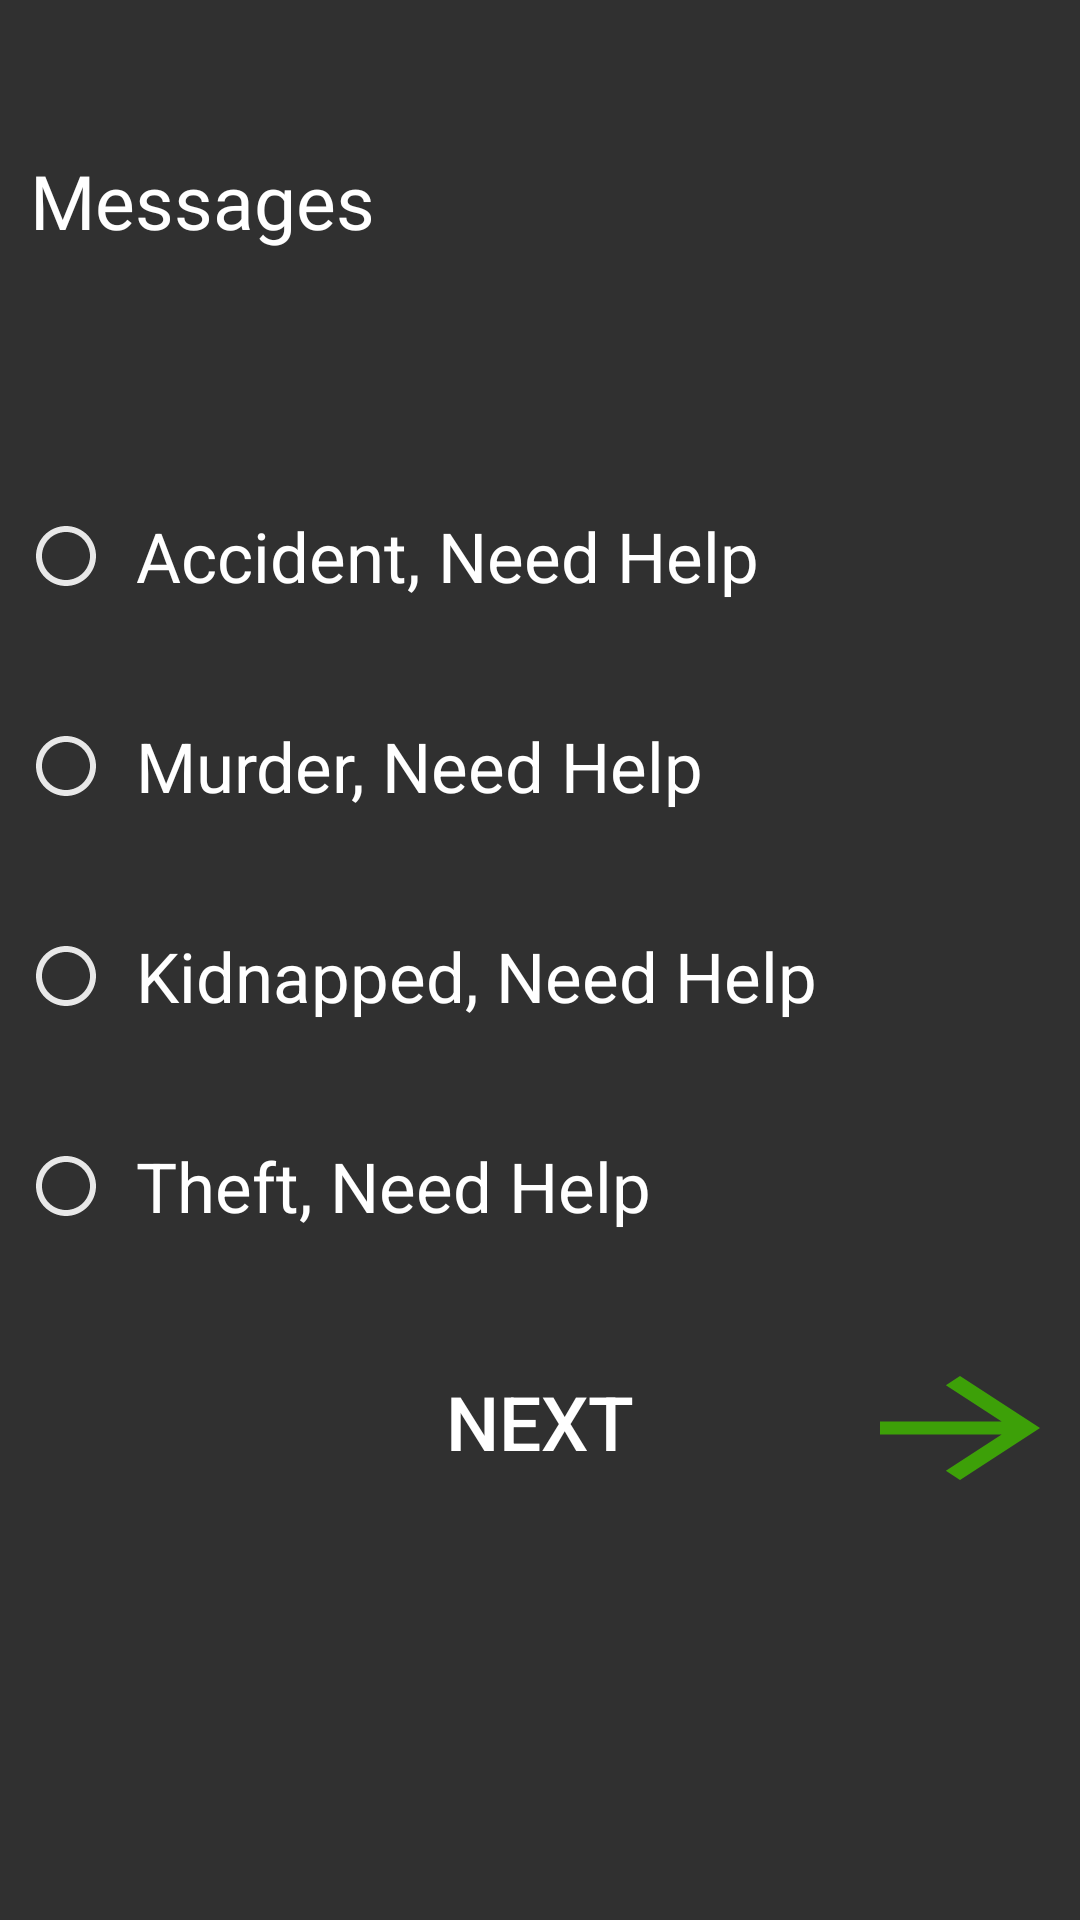

Named icons in this screenshot (1080px×1920px) and their centers, point (x, y):
arrow forward: point (960, 1428)
